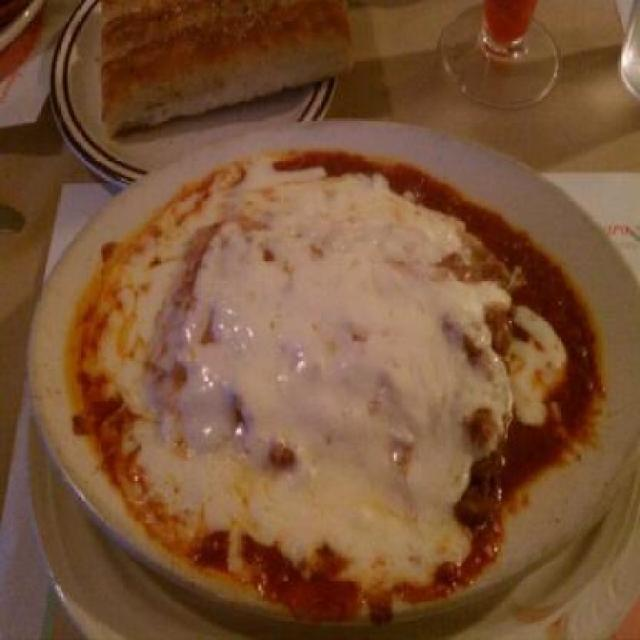Lasagna: (86, 163, 577, 580)
